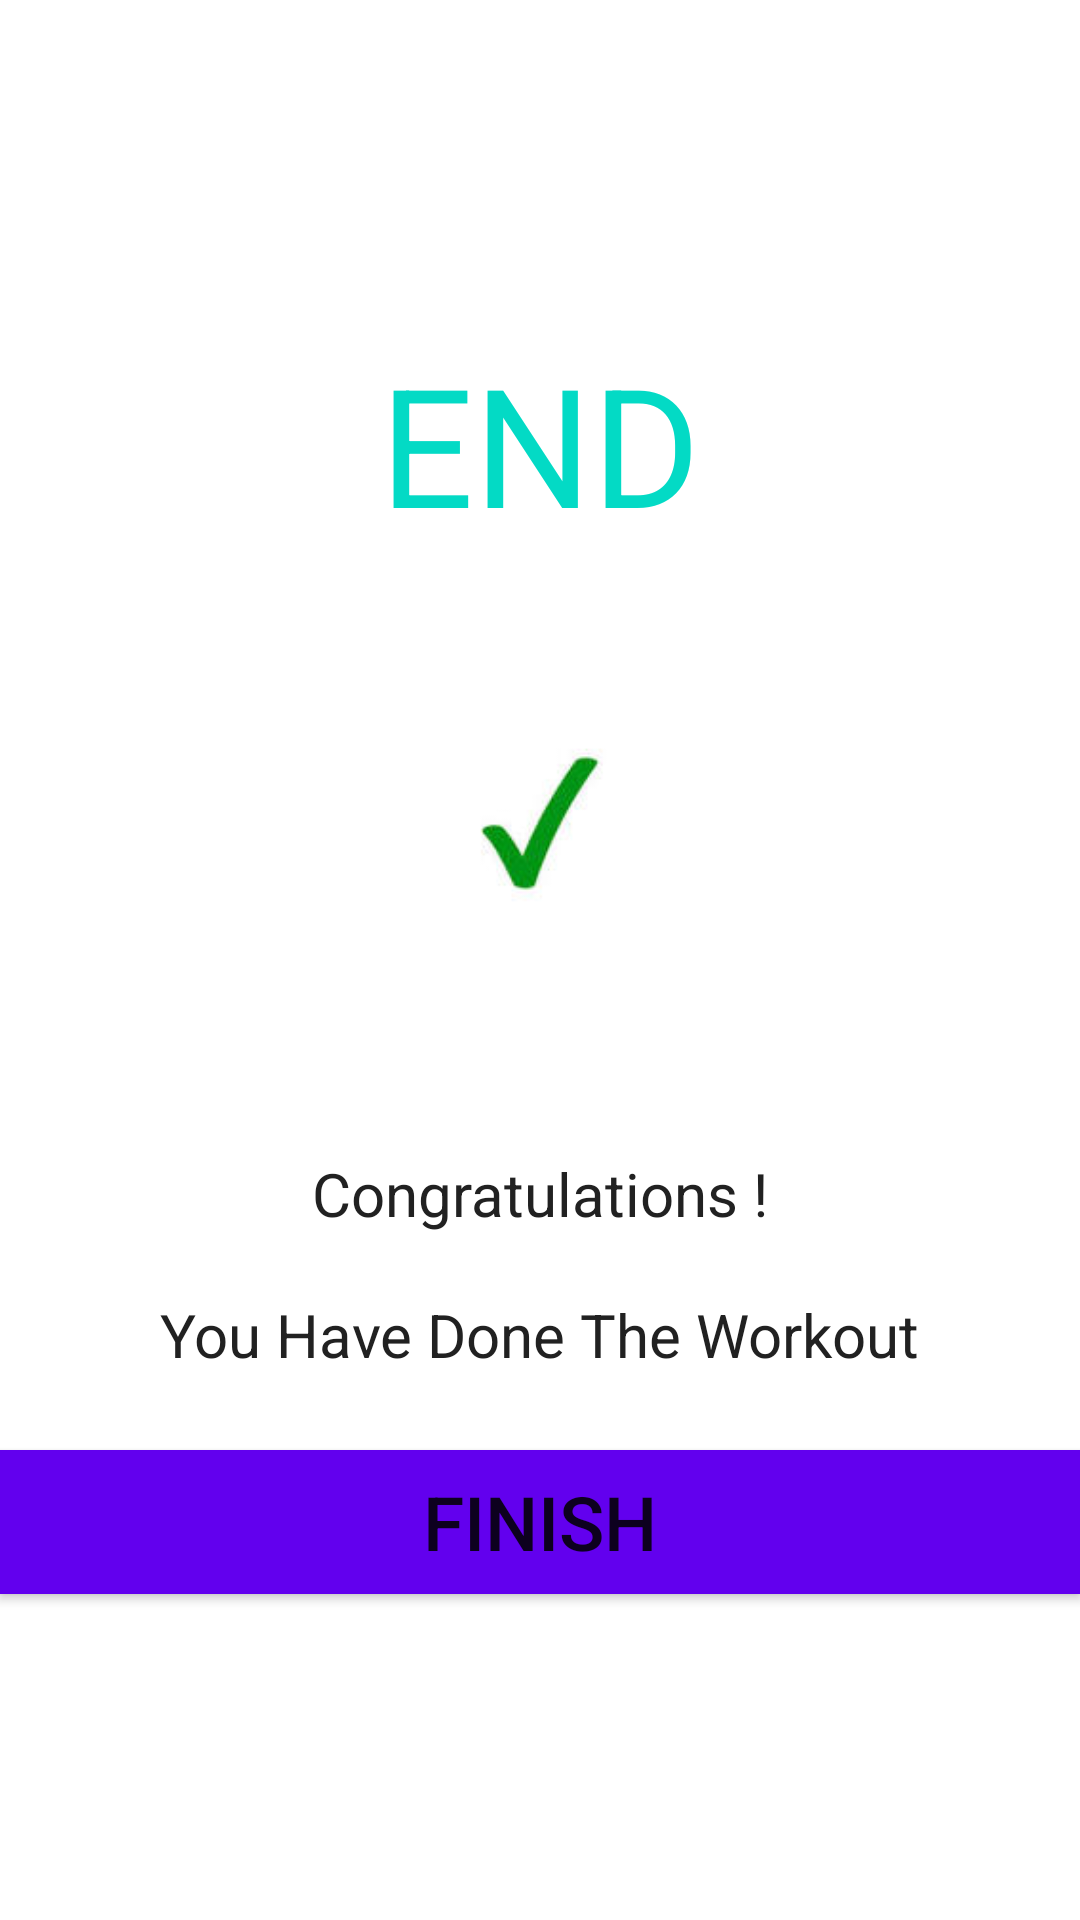

Icon click points for this 1080px×1920px phone screenshot, format (x,y):
tick: (540,823)
